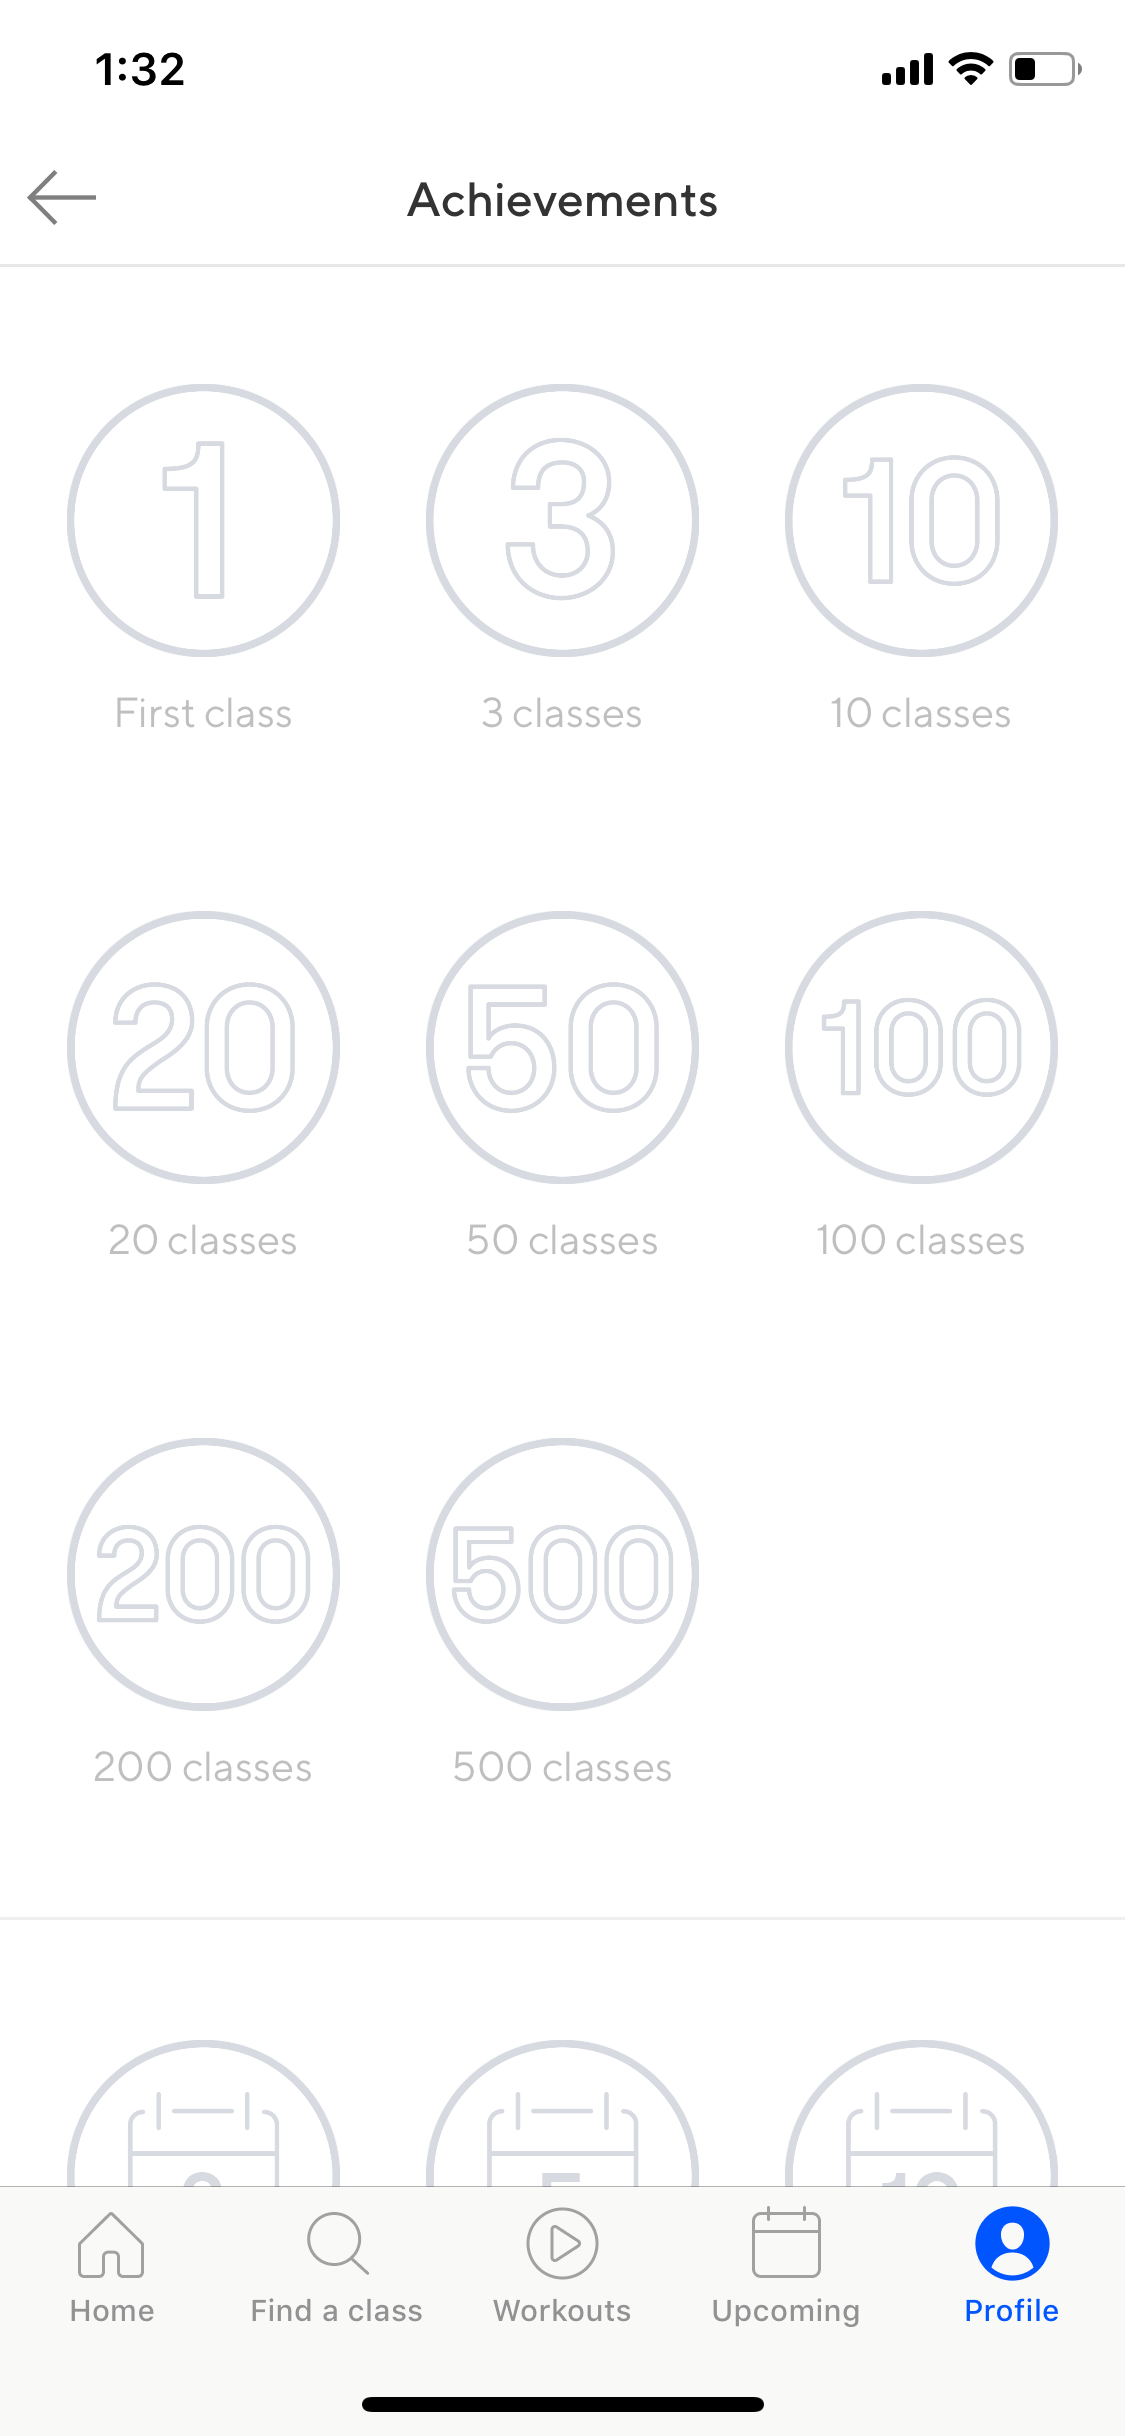Buttons: (2, 117, 129, 256)
